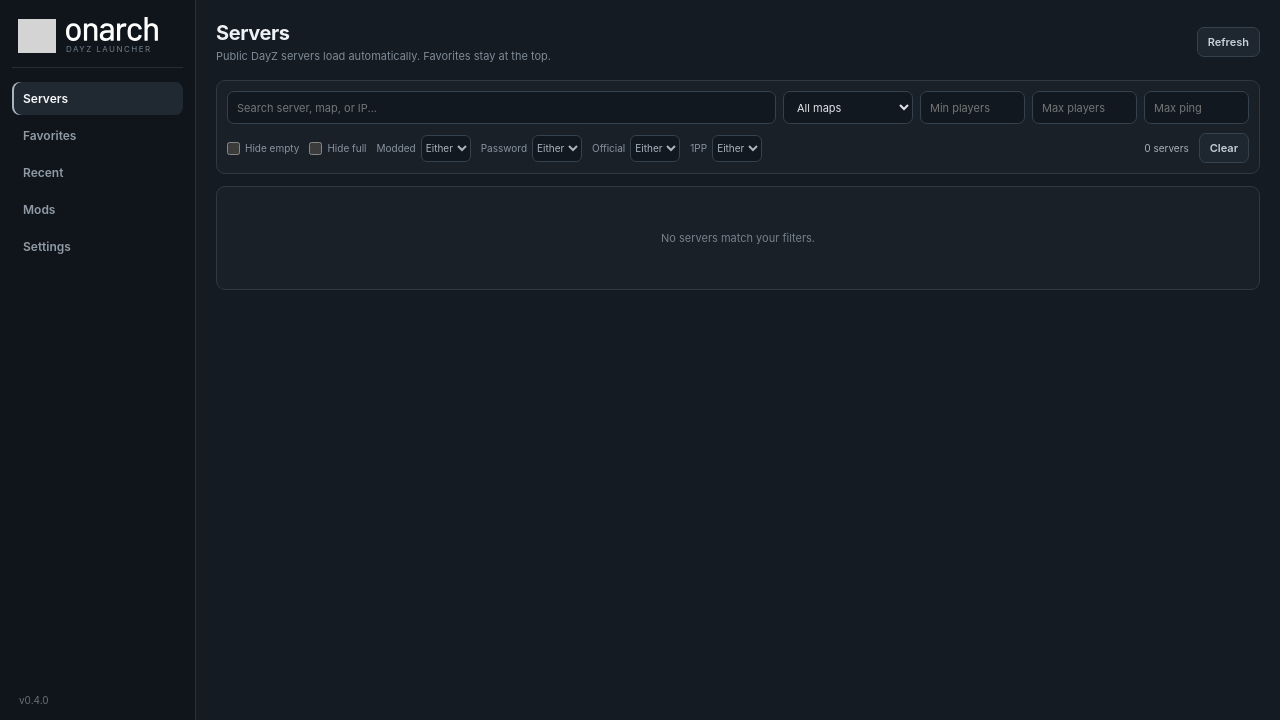
Test case: defaults a blank DayZ name to the active Steam public name
Click the button "Settings".
click(98, 246)  # box [12, 230, 183, 263]
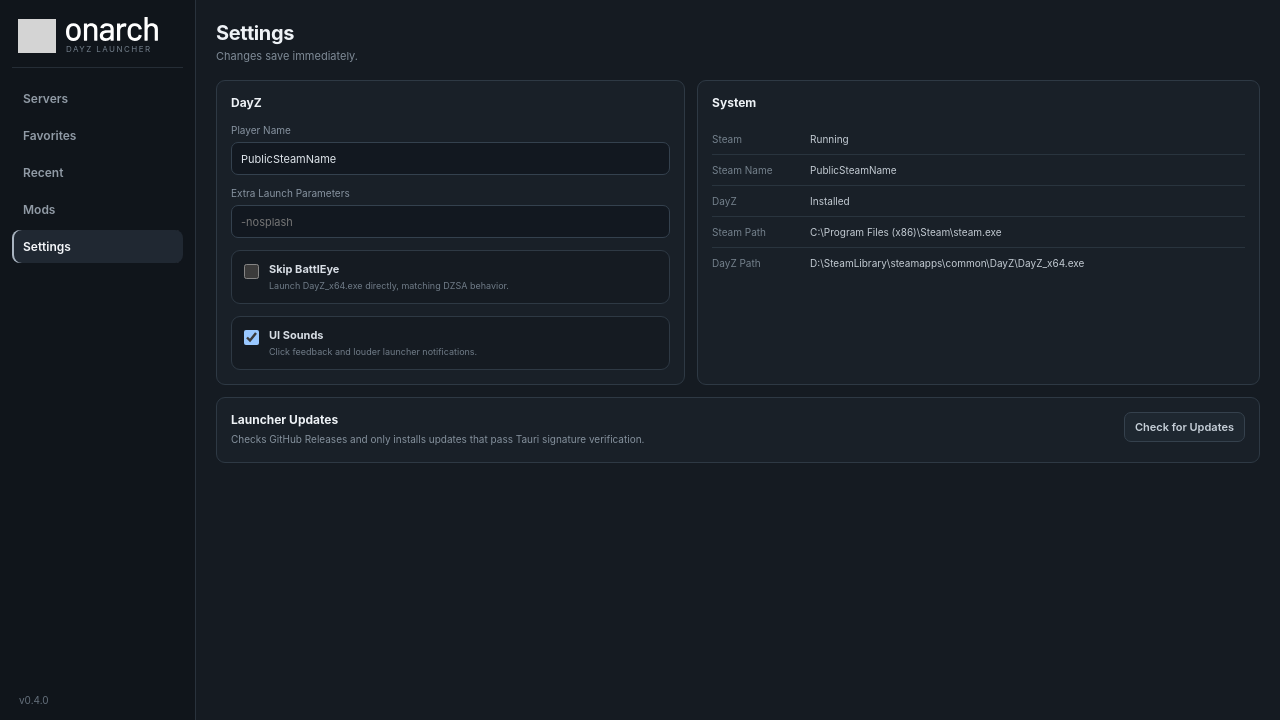
Expected: the field showing "PublicSteamName" is shown, [231, 142, 670, 175]
Expected: the text "PublicSteamName" is shown, [810, 164, 897, 176]
